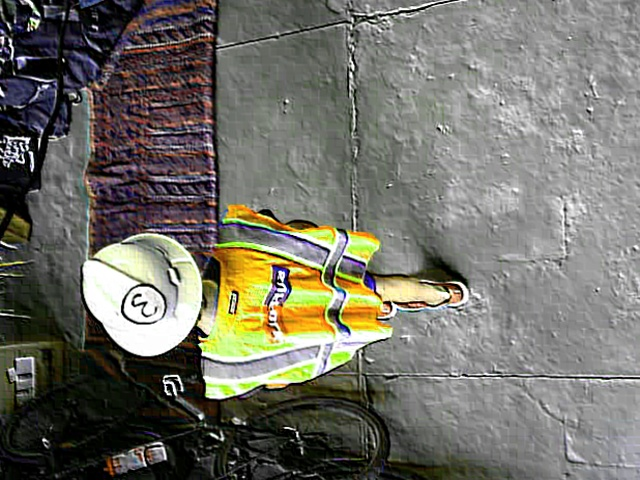three: (118, 284, 165, 325)
